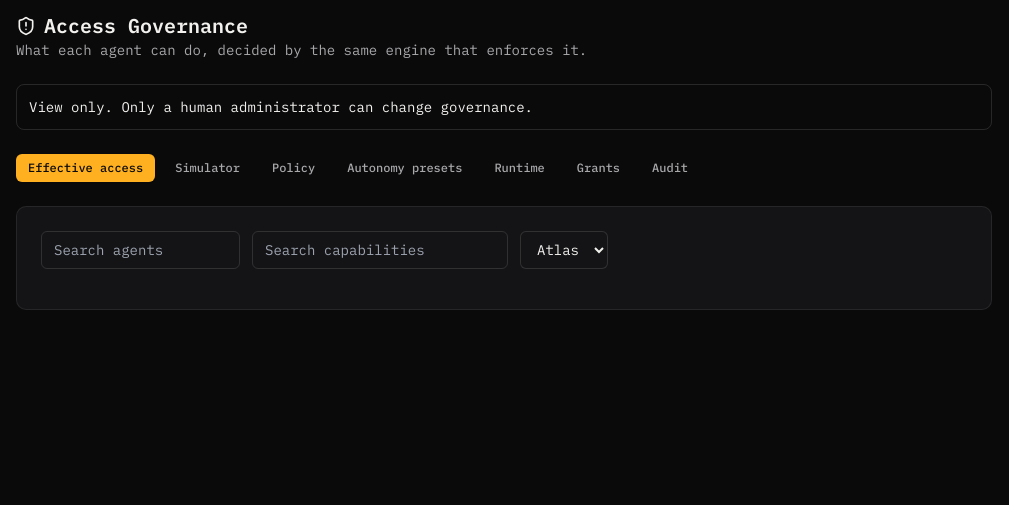
it: Governance Studio permission › a viewer still reads the matrix, the audit trail and the history
The width and height of the screenshot is (1009, 505).
Click the button "Audit" at [670, 168], box [640,154,700,182]
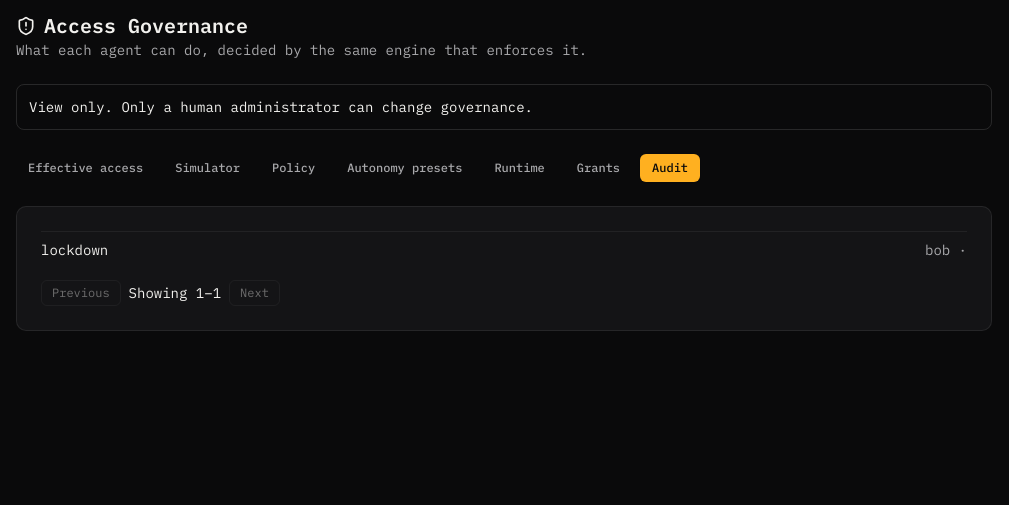
Expected: the text "lockdown" is shown, [41,240,108,260]
Click the button "Policy" at [294, 168], box [260,154,327,182]
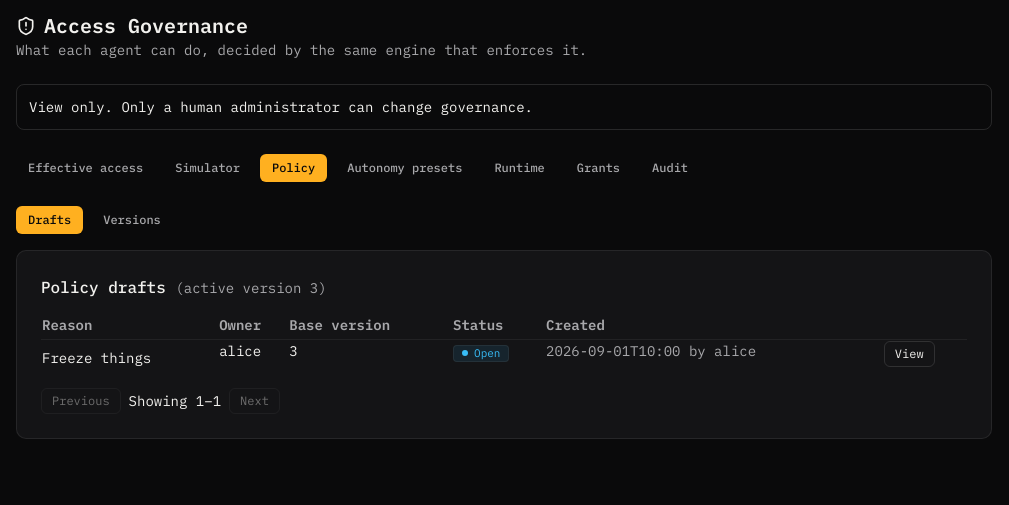
Expected: the table named "Policy drafts" is shown, [41,311,967,376]
Click the button "Versions" at [132, 220], box [91,206,173,234]
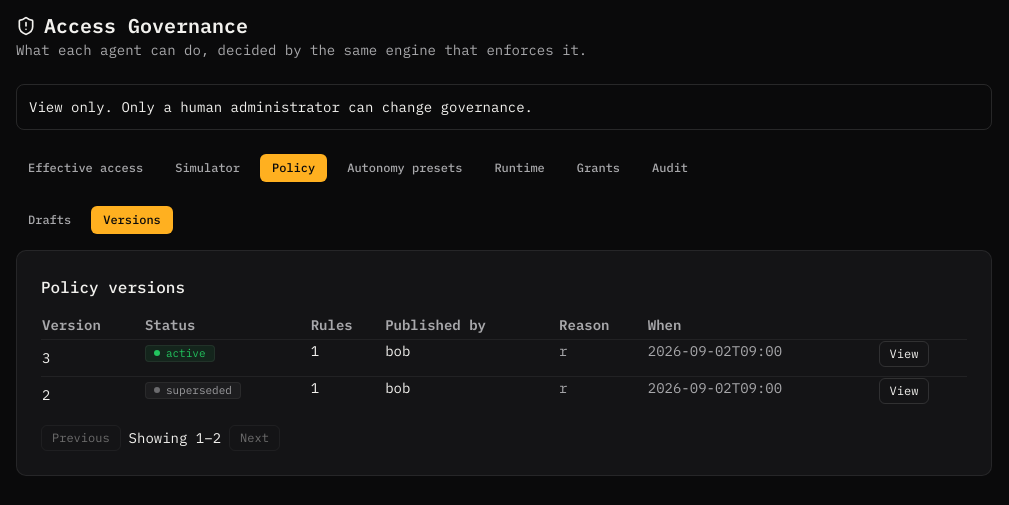
Expected: the table named "Policy versions" is shown, [41,311,967,413]
Click the button "Simulator" at [208, 168], box [163,154,252,182]
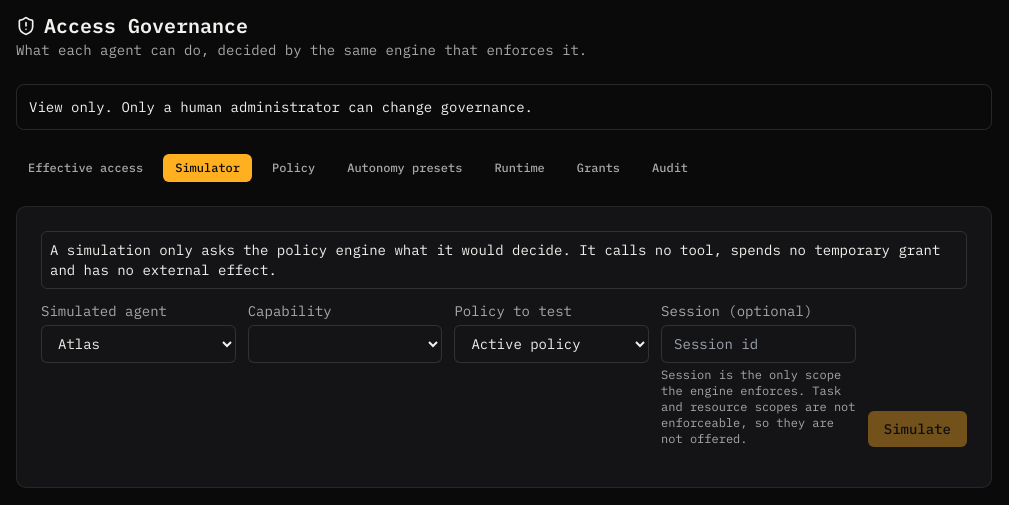
Expected: the button "Simulate" is shown, [868,411,967,447]
